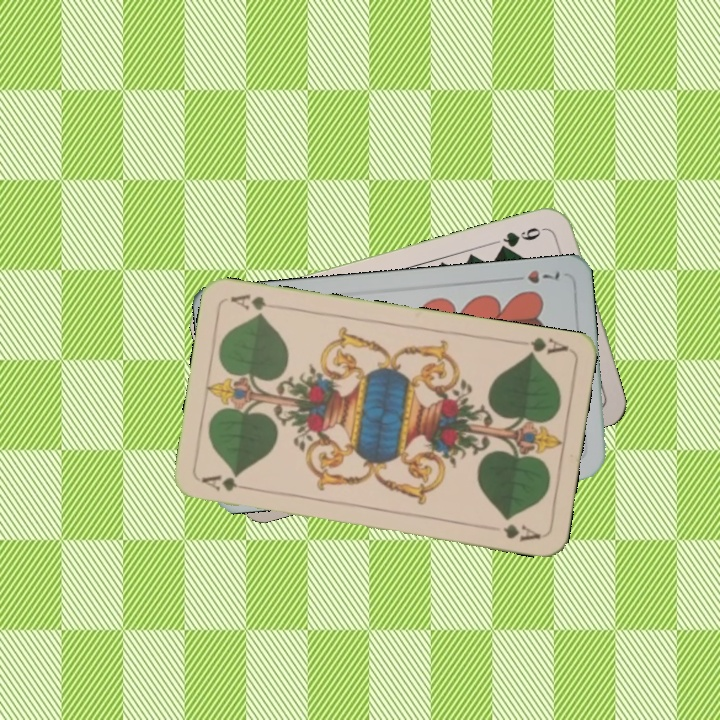G9: (495, 223, 551, 254)
GA: (197, 471, 256, 494), (522, 333, 571, 360)
H7: (506, 266, 564, 286)
